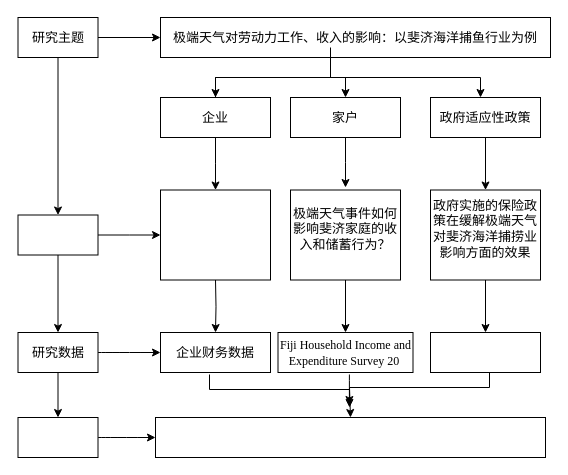
Image size: 568x475. Some labels were removed from this diagram. The shapes that lost their labels are listed below. From the top down, each one's centre as x and y in pixels, then its label:
At point 57,234: "研究问题".
At point 215,234: "极端天气如何影响企业的员工雇佣人数和合同形式？".
At point 485,352: "斐济政府或金融机构的数据".
At point 57,437: "政策建议".
At point 350,437: "发挥中国企业如何在提升斐济、萨摩亚气候变化韧性中的积极作用".
